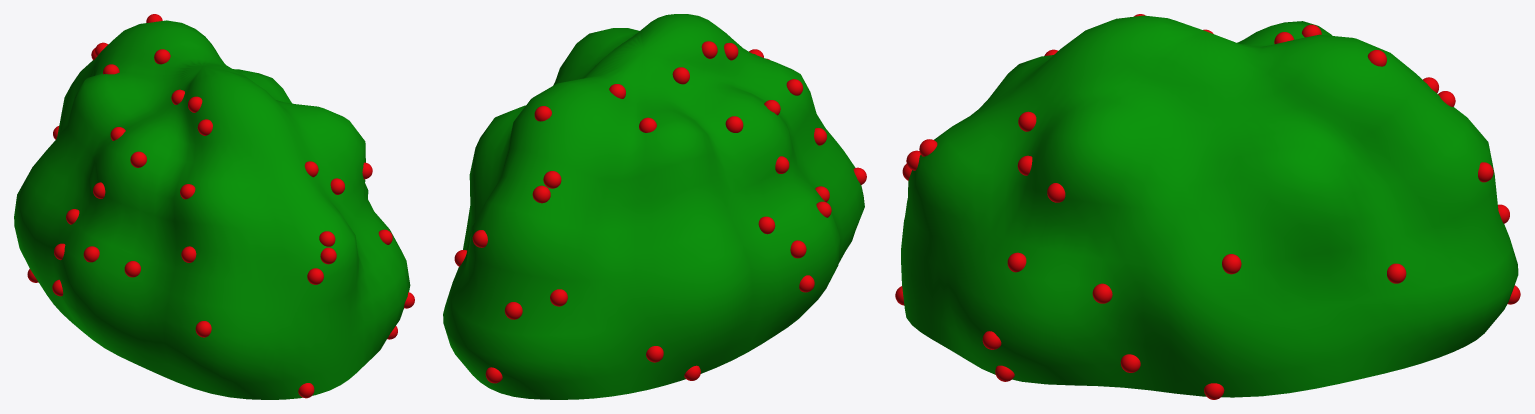
The model's file is Bush_Asset_Final.fbx.
3 views of the same model, side by side, from view 1: azimuth 30°, elevation 25°; view 2: azimuth 150°, elevation 25°; view 3: azimuth 270°, elevation 25° (orthographic). The views are drawn at different scales.
Visible parts, largest first — view 1: Bush V2; view 2: Bush V2; view 3: Bush V2.
Part boxes in pixels (x1,y1,x2,y2): Bush V2: [14, 20, 410, 399]; Bush V2: [443, 14, 864, 399]; Bush V2: [901, 15, 1518, 397].
Size of the model in its own units: 76.67 by 58.18 by 111.
